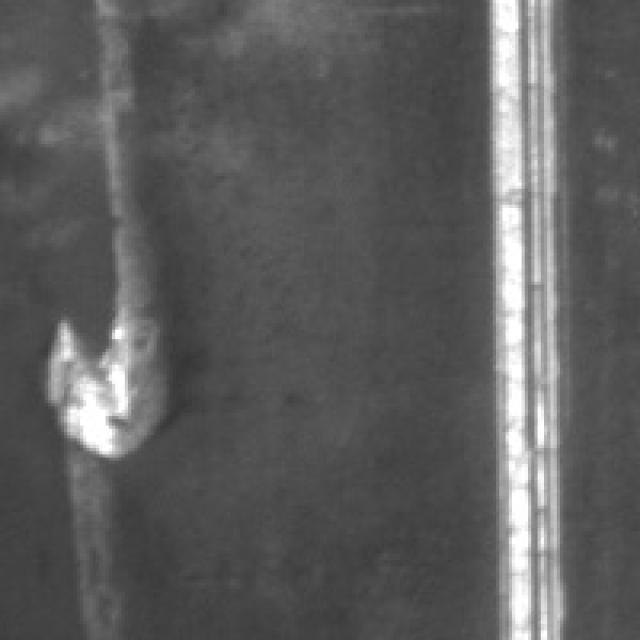scratches: (483, 0, 586, 637), (70, 0, 150, 560), (48, 272, 189, 454)
